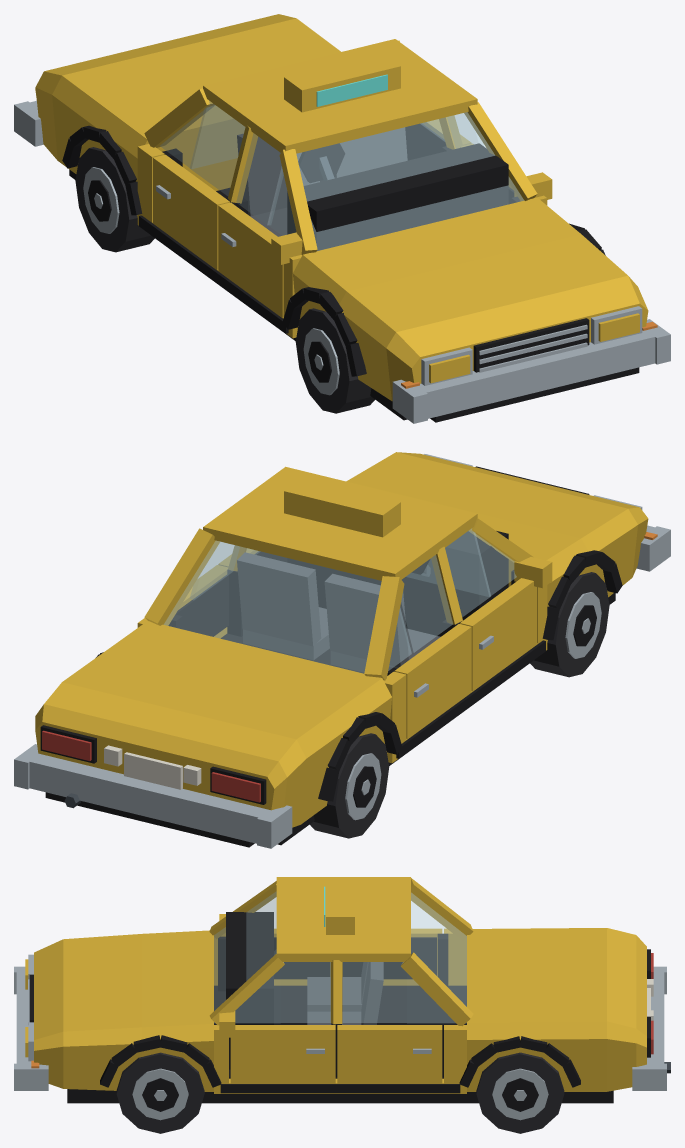
The model's file is GV_Taxi_Yellow_01.glb.
The picture shows the model from 3 angles, top to bottom: view 1: azimuth 30°, elevation 25°; view 2: azimuth 150°, elevation 25°; view 3: azimuth 270°, elevation 25°; orthographic projection. The views are drawn at different scales.
Visible parts, largest first — view 1: GV_Taxi_Yellow_01, Hood, Trunk, Door_RR, Door_FR, Wheel_FR, Wheel_RR, Door_FL, Door_RL; view 2: GV_Taxi_Yellow_01, Trunk, Hood, Door_RR, Door_FR, Wheel_RR, Wheel_FR, Door_RL; view 3: GV_Taxi_Yellow_01, Hood, Trunk, Door_RL, Door_FL, Wheel_RL, Wheel_FL, Door_RR, Door_FR.
Boxes of the visible parts, x1,y1,x2,y2 form: GV_Taxi_Yellow_01: (14,14,670,423); Hood: (293,197,627,358); Trunk: (52,18,340,165); Door_RR: (153,101,245,269); Door_FR: (218,133,302,317); Wheel_FR: (295,308,374,413); Wheel_RR: (75,147,154,252); Door_FL: (447,113,552,204); Door_RL: (405,119,471,160); GV_Taxi_Yellow_01: (14,452,670,848); Trunk: (62,621,391,766); Hood: (346,452,637,592); Door_RR: (394,555,471,738); Door_FR: (445,528,552,690); Wheel_RR: (310,733,389,838); Wheel_FR: (530,572,609,677); Door_RL: (175,542,239,638); GV_Taxi_Yellow_01: (14,877,670,1103); Hood: (63,930,213,1055); Trunk: (467,928,606,1046); Door_RL: (337,962,442,1083); Door_FL: (219,962,335,1083); Wheel_RL: (476,1052,564,1133); Wheel_FL: (116,1052,204,1133); Door_RR: (342,928,442,985); Door_FR: (219,914,330,985).
Size of the model in its own units: 1.92 by 1.53 by 4.93.
2 materials, 2 textured.
